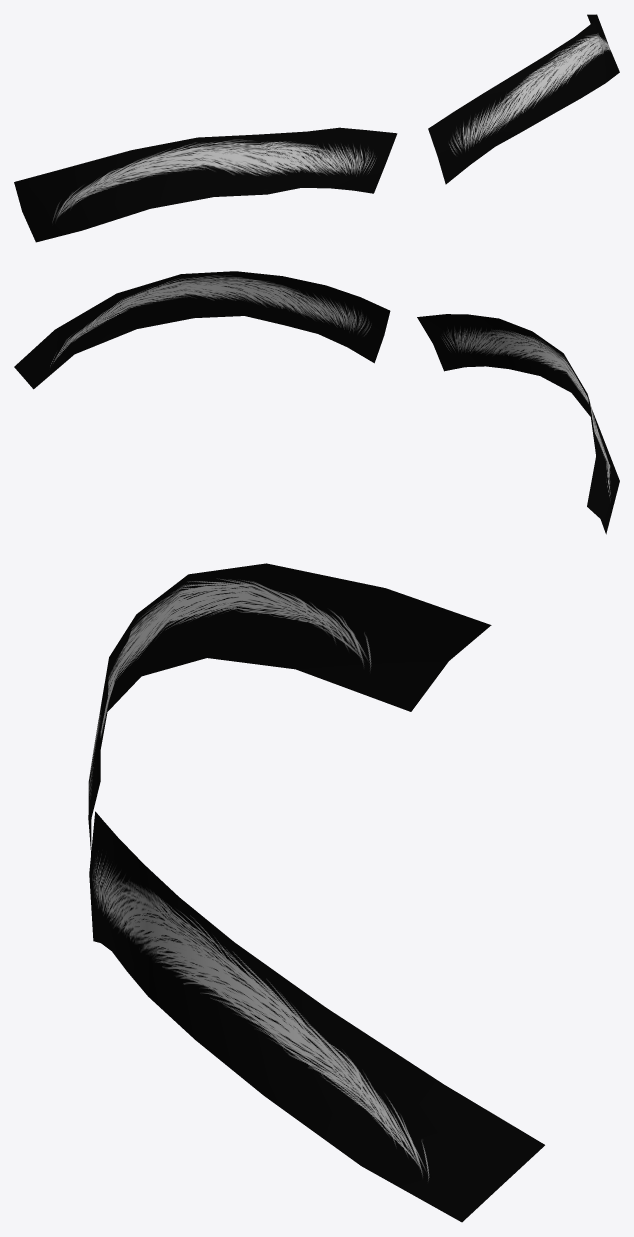
Rendered from eyebrow.fbx.
3 renders of one model, top to bottom at view 1: azimuth 30°, elevation 25°; view 2: azimuth 150°, elevation 25°; view 3: azimuth 270°, elevation 25°, orthographic. The views are drawn at different scales.
Visible parts, largest first — view 1: eyebrow1; view 2: eyebrow1; view 3: eyebrow1.
Boxes of the visible parts, bbox=[...] form: eyebrow1: bbox=[14, 14, 619, 242]; eyebrow1: bbox=[14, 271, 619, 534]; eyebrow1: bbox=[88, 563, 544, 1222].
Bounding box in the file's own units: 2006 × 403 × 705.
Materials: 1 (1 with a texture image).
